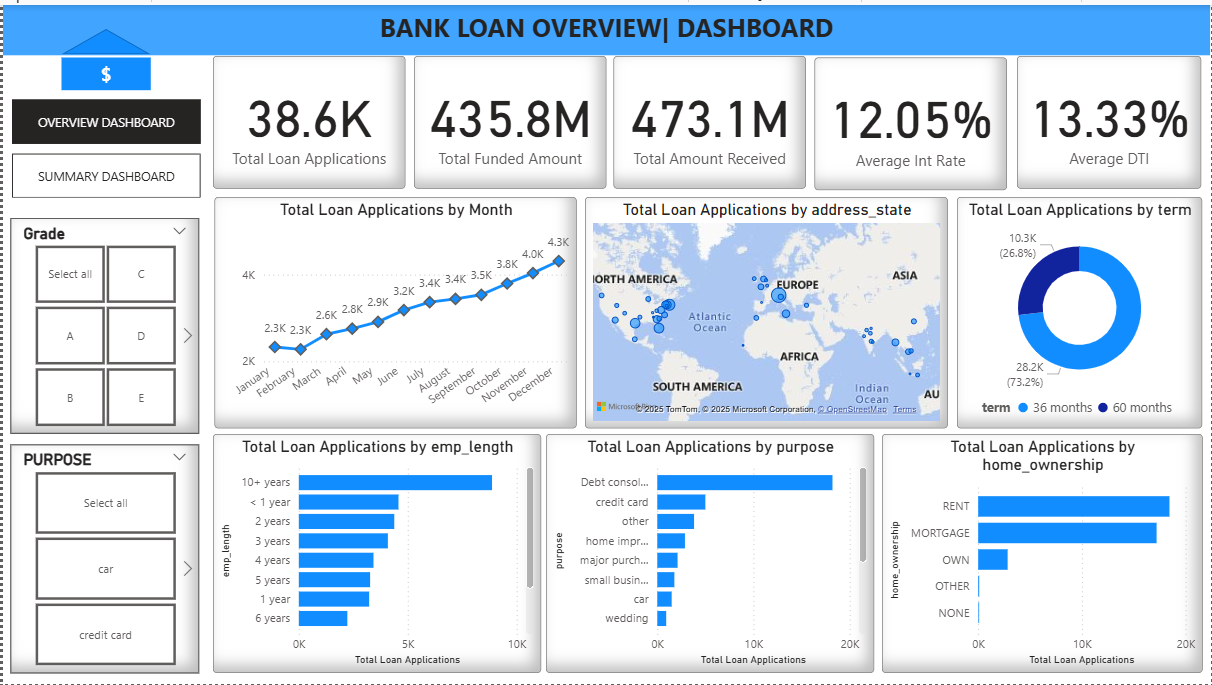

The dashboard page shown, as its layout file describes it:
{"tool":"powerbi","page":{"name":"OVERVIEW DASHBOARD","canvas":[1280,720],"ordinal":0},"visuals":[{"type":"card","fields":{"Values":["financial_loan.Total Loan Applications"]},"box":[222.5,53.7,204.2,140.6],"z":0},{"type":"card","fields":{"Values":["financial_loan.Total Funded Amount"]},"box":[435.2,53.7,204.2,140.6],"z":1000},{"type":"card","fields":{"Values":["financial_loan.Total Amount Received"]},"box":[648,53.7,204.2,140.6],"z":2000},{"type":"card","fields":{"Values":["financial_loan.Average Int Rate"]},"box":[860.8,54.9,204.2,140.6],"z":3000},{"type":"card","fields":{"Values":["financial_loan.Average DTI"]},"box":[1076,53.7,195.7,140.6],"z":4000},{"type":"lineChart","fields":{"Category":["financial_loan.issue_date.Variation.Date Hierarchy.Month"],"Y":["financial_loan.Total Loan Applications"]},"box":[224,204,384,245.3],"z":5000},{"type":"map","fields":{"Size":["financial_loan.Total Loan Applications"],"Category":["financial_loan.address_state"]},"box":[617.8,204.1,384.9,245.2],"z":6000},{"type":"donutChart","fields":{"Y":["financial_loan.Total Loan Applications"],"Category":["financial_loan.term"]},"box":[1012,204,260,245.3],"z":7000},{"type":"barChart","fields":{"Y":["financial_loan.Total Loan Applications"],"Category":["financial_loan.emp_length"]},"box":[222.7,454.7,348,253.3],"z":8000},{"type":"barChart","fields":{"Y":["financial_loan.Total Loan Applications"],"Category":["financial_loan.purpose"]},"box":[576,454.7,348,253.3],"z":9000},{"type":"barChart","fields":{"Y":["financial_loan.Total Loan Applications"],"Category":["financial_loan.home_ownership"]},"box":[932,454.7,340,253.3],"z":10000},{"type":"textbox","box":[0,0,1280,53.3],"z":11000},{"type":"group","id":"g1","title":"Group 1","box":[61.6,26,94.5,64.4],"z":12000},{"type":"shape","box":[61.6,26,94.5,26.8],"z":13000,"group":"g1"},{"type":"slicer","fields":{"Values":["financial_loan.grade"]},"box":[8.2,226,200,228.8],"z":13000},{"type":"textbox","box":[61.6,55.5,94.5,34.9],"z":14000,"group":"g1"},{"type":"slicer","fields":{"Values":["financial_loan.purpose"]},"box":[8.2,465.8,200,242.5],"z":14000},{"type":"pageNavigator","box":[9.6,100,200,104.1],"z":15000}]}

Visuals, with their boxes in screenshot pixels (x1, y1, x2, y2), scaled from the page's 1280x720 canvas onto the 1212x685 screenshot:
card - financial_loan.Total Loan Applications: {"x1": 211, "y1": 51, "x2": 404, "y2": 185}
card - financial_loan.Total Funded Amount: {"x1": 412, "y1": 51, "x2": 605, "y2": 185}
card - financial_loan.Total Amount Received: {"x1": 614, "y1": 51, "x2": 807, "y2": 185}
card - financial_loan.Average Int Rate: {"x1": 815, "y1": 52, "x2": 1008, "y2": 186}
card - financial_loan.Average DTI: {"x1": 1019, "y1": 51, "x2": 1204, "y2": 185}
lineChart - financial_loan.issue_date.Variation.Date Hierarchy.Month x financial_loan.Total Loan Applications: {"x1": 212, "y1": 194, "x2": 576, "y2": 427}
map - financial_loan.Total Loan Applications x financial_loan.address_state: {"x1": 585, "y1": 194, "x2": 949, "y2": 427}
donutChart - financial_loan.Total Loan Applications x financial_loan.term: {"x1": 958, "y1": 194, "x2": 1204, "y2": 427}
barChart - financial_loan.Total Loan Applications x financial_loan.emp_length: {"x1": 211, "y1": 433, "x2": 540, "y2": 674}
barChart - financial_loan.Total Loan Applications x financial_loan.purpose: {"x1": 545, "y1": 433, "x2": 875, "y2": 674}
barChart - financial_loan.Total Loan Applications x financial_loan.home_ownership: {"x1": 882, "y1": 433, "x2": 1204, "y2": 674}
textbox: {"x1": 0, "y1": 0, "x2": 1211, "y2": 51}
"Group 1" group: {"x1": 58, "y1": 25, "x2": 148, "y2": 86}
shape: {"x1": 58, "y1": 25, "x2": 148, "y2": 50}
slicer - financial_loan.grade: {"x1": 8, "y1": 215, "x2": 197, "y2": 433}
textbox: {"x1": 58, "y1": 53, "x2": 148, "y2": 86}
slicer - financial_loan.purpose: {"x1": 8, "y1": 443, "x2": 197, "y2": 674}
pageNavigator: {"x1": 9, "y1": 95, "x2": 198, "y2": 194}
